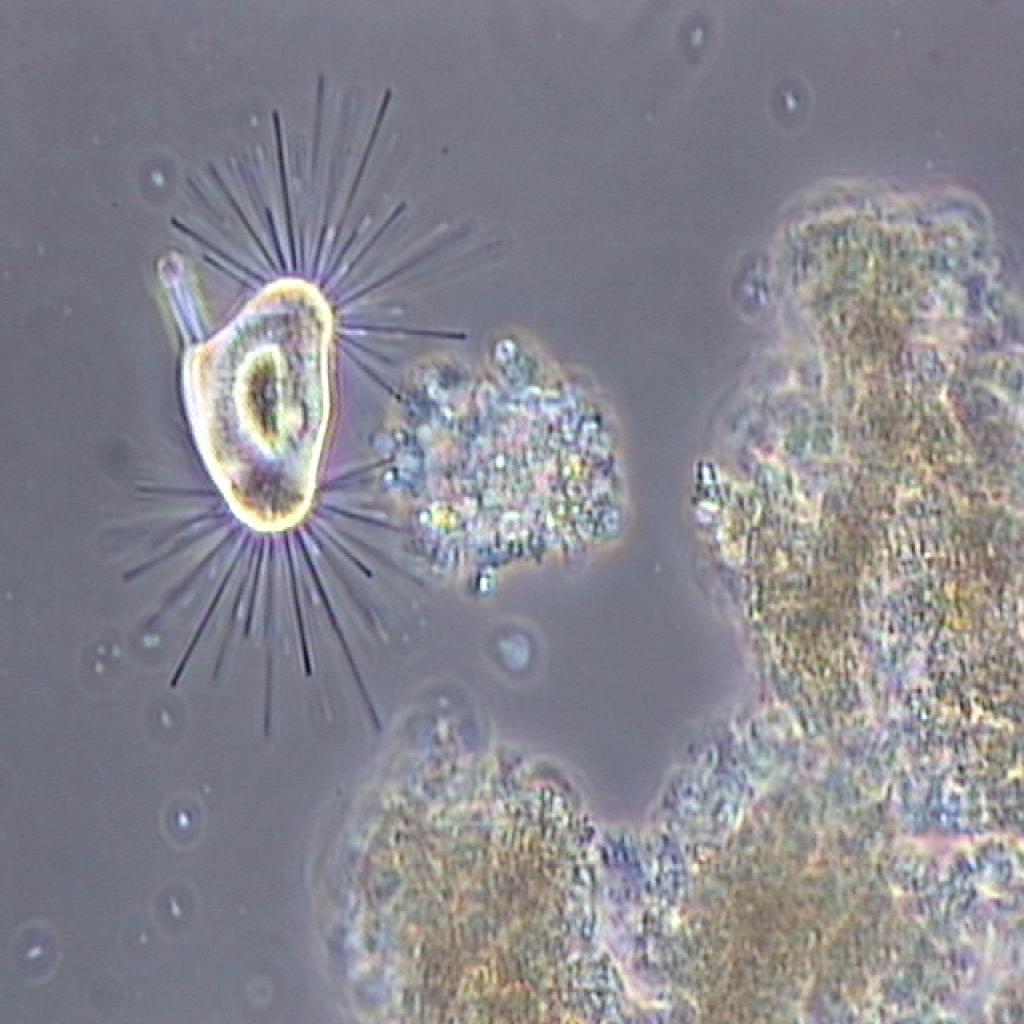Suctorida: (133, 60, 408, 740)
